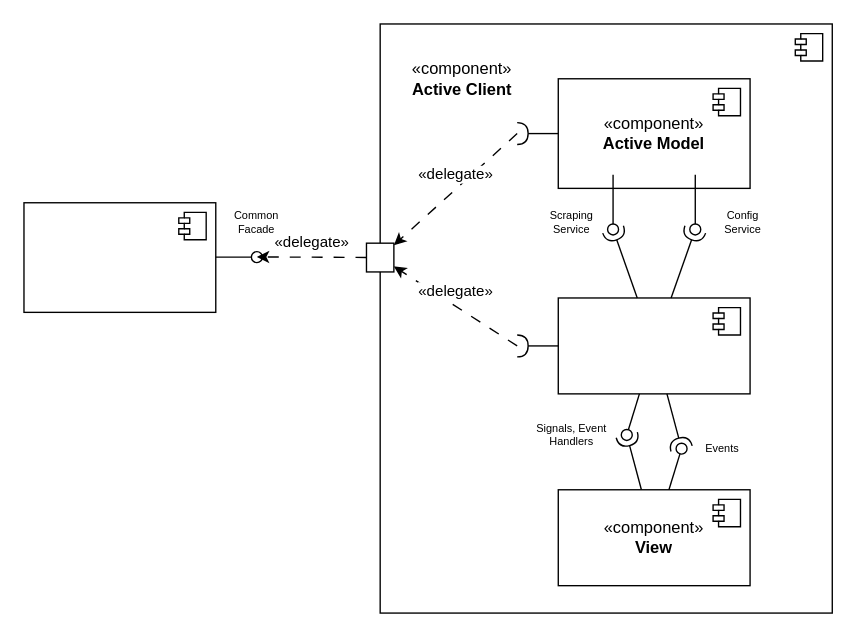
Image size: 856x637. Some labels were removed from this diagram. Each missing label, with the centre of its shape:
«component» Common Model: the point at 119,256
«component» ViewModel: the point at 653,345
